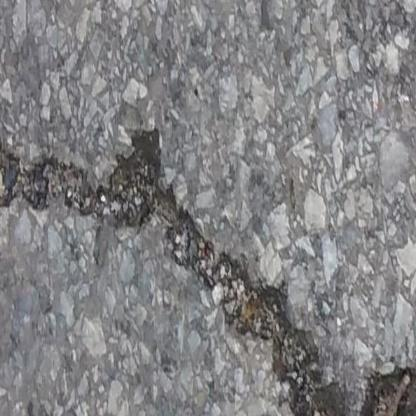Cracks: (0, 124, 416, 416)
